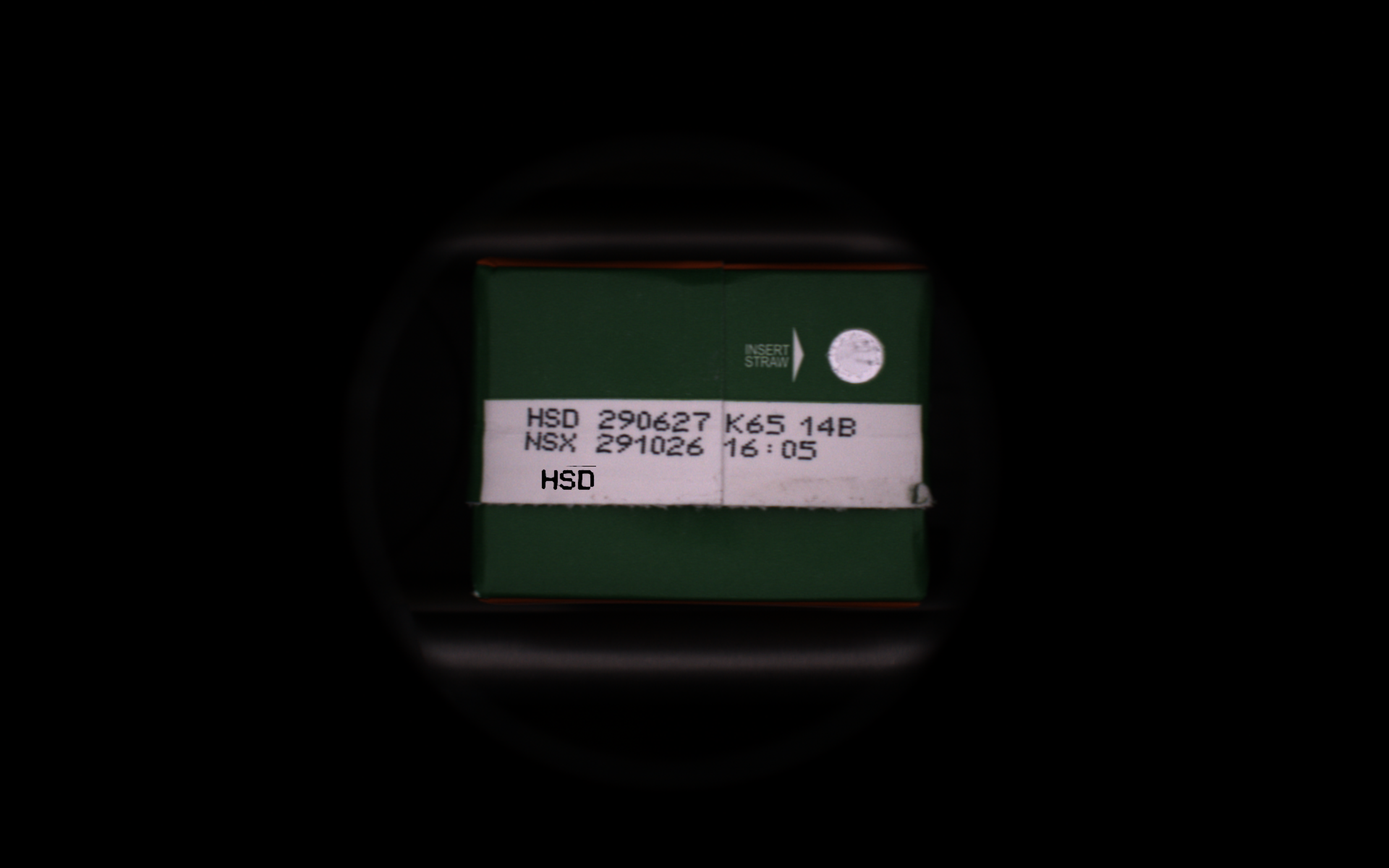date: (540, 467, 595, 492)
